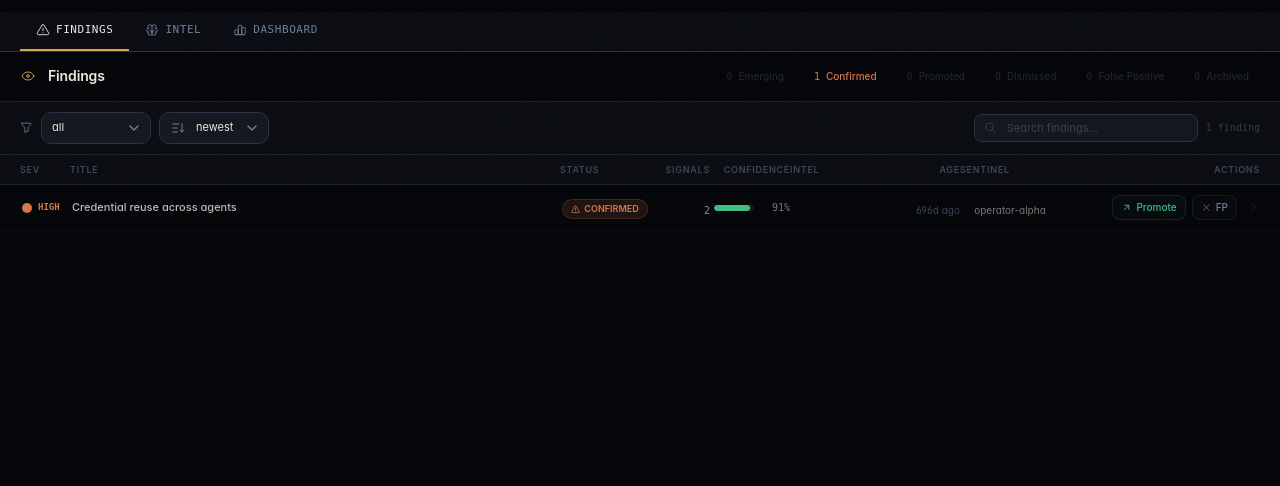
FindingsIntelPage › promotes confirmed findings into store-backed local intel
Click the button "Promote". click: (1149, 208)
box: [1112,195,1186,220]
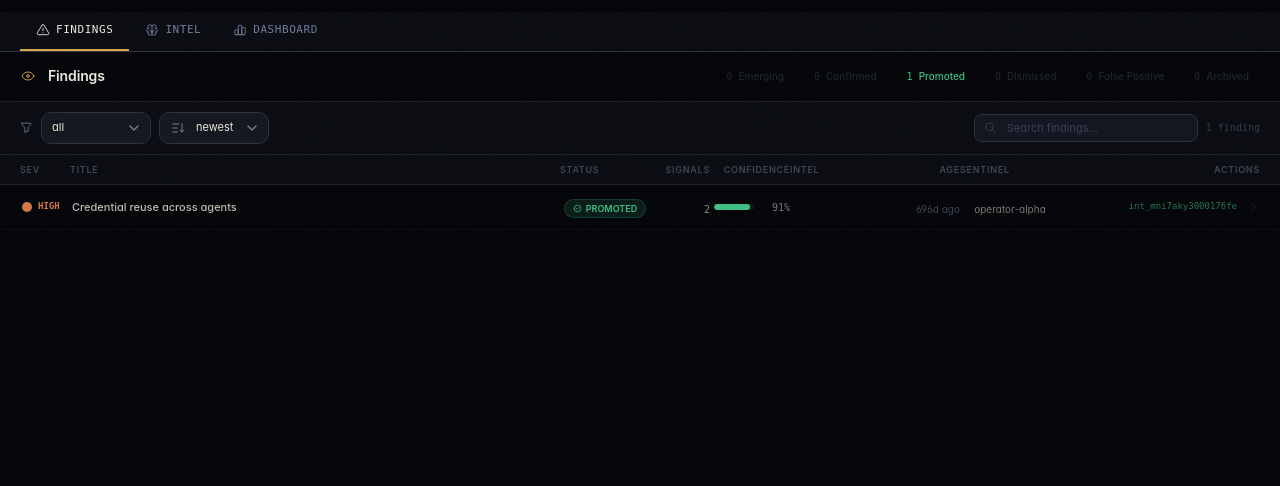
Click the button "Intel". click: (173, 31)
box: [129,12,217,50]
Wait 500 ms
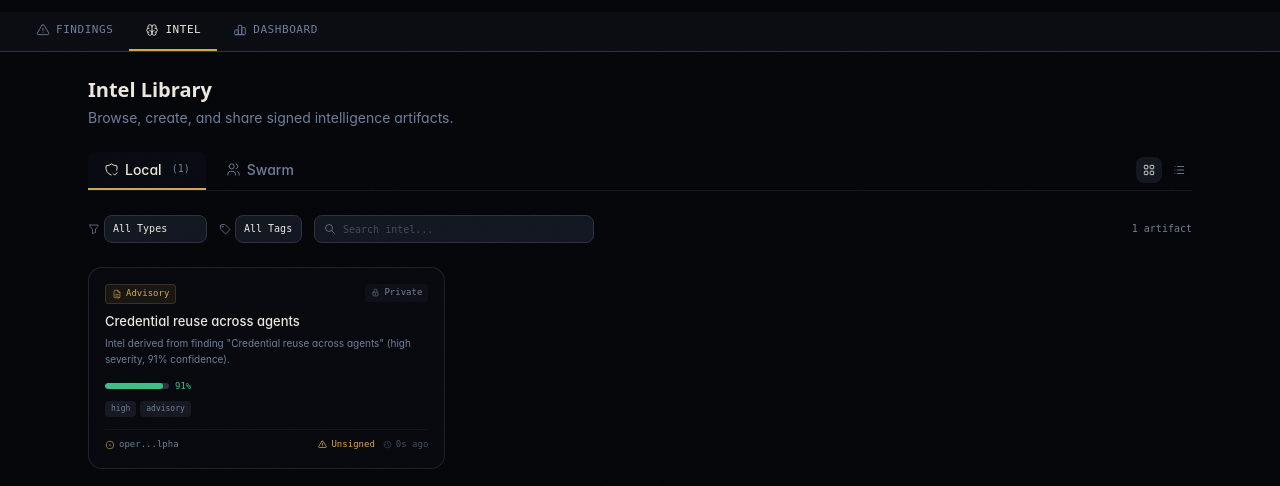
Now the heading "Credential reuse across agents" is shown, box [105,312,300,328]
